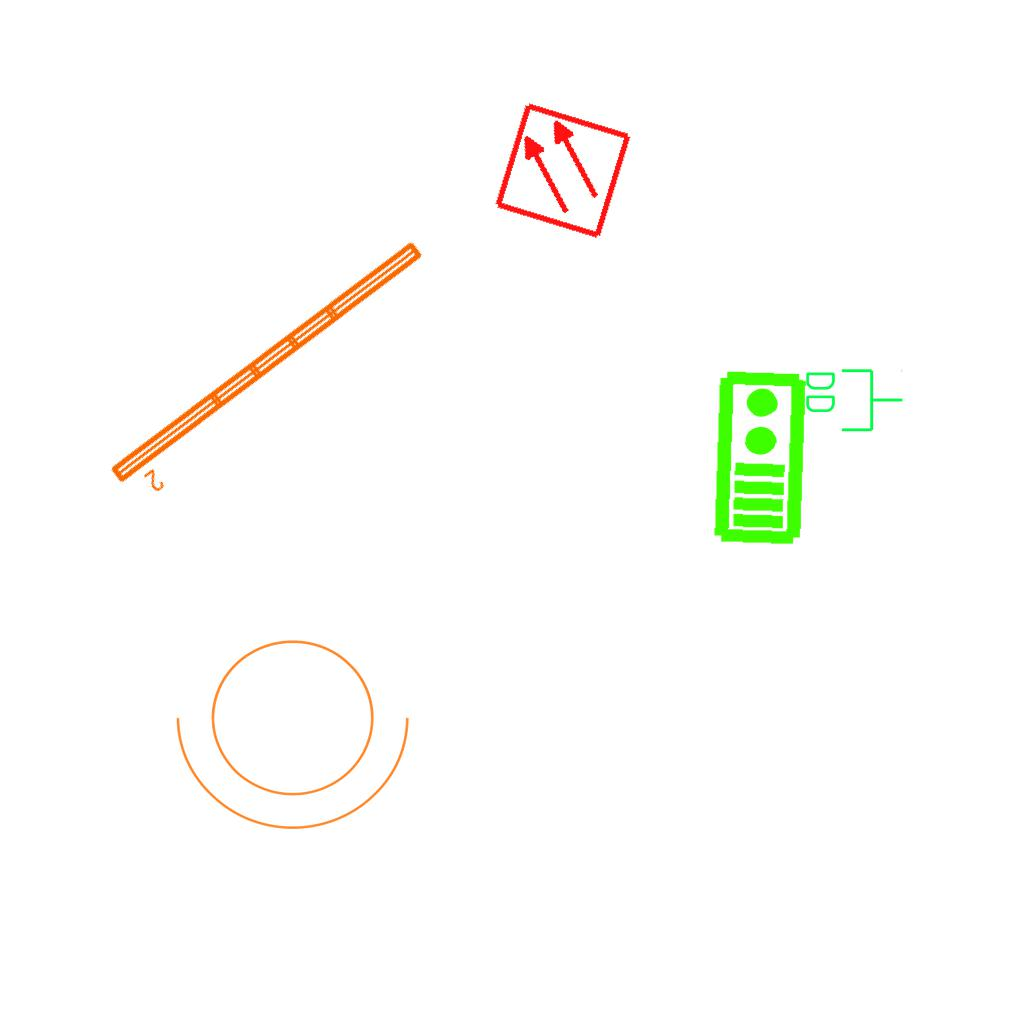Ambulanz_Pendelleuchte_LED: (103, 233, 446, 511)
Datenanschluss_zweifach: (802, 365, 905, 434)
Gegensprechanlage_mit_Video: (707, 367, 810, 547)
RMO_Rauchmelder_optischer: (491, 99, 634, 242)
Scheinwerfer_fuer_Alarmbeleuchtung: (167, 615, 431, 840)
